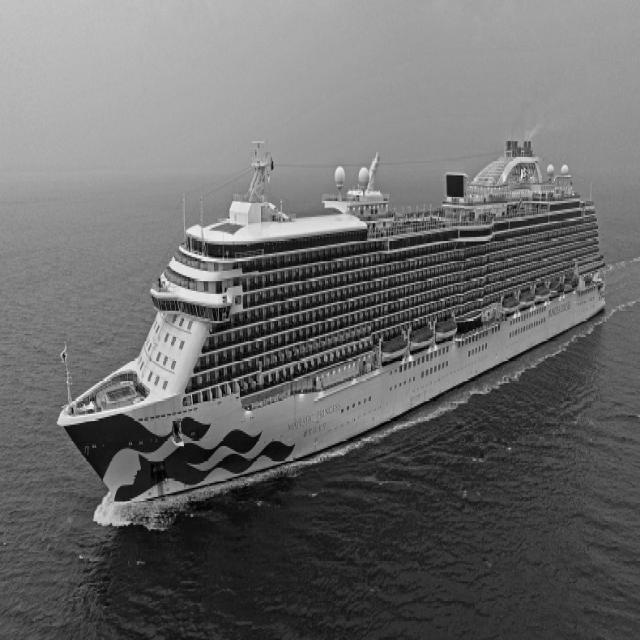cruises: (49, 106, 613, 501)
